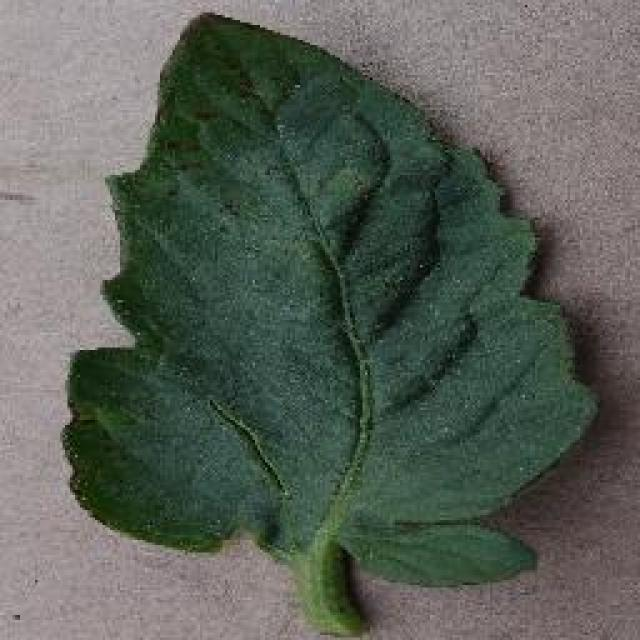Tomato bacterial spot leaf: (55, 18, 606, 614)
